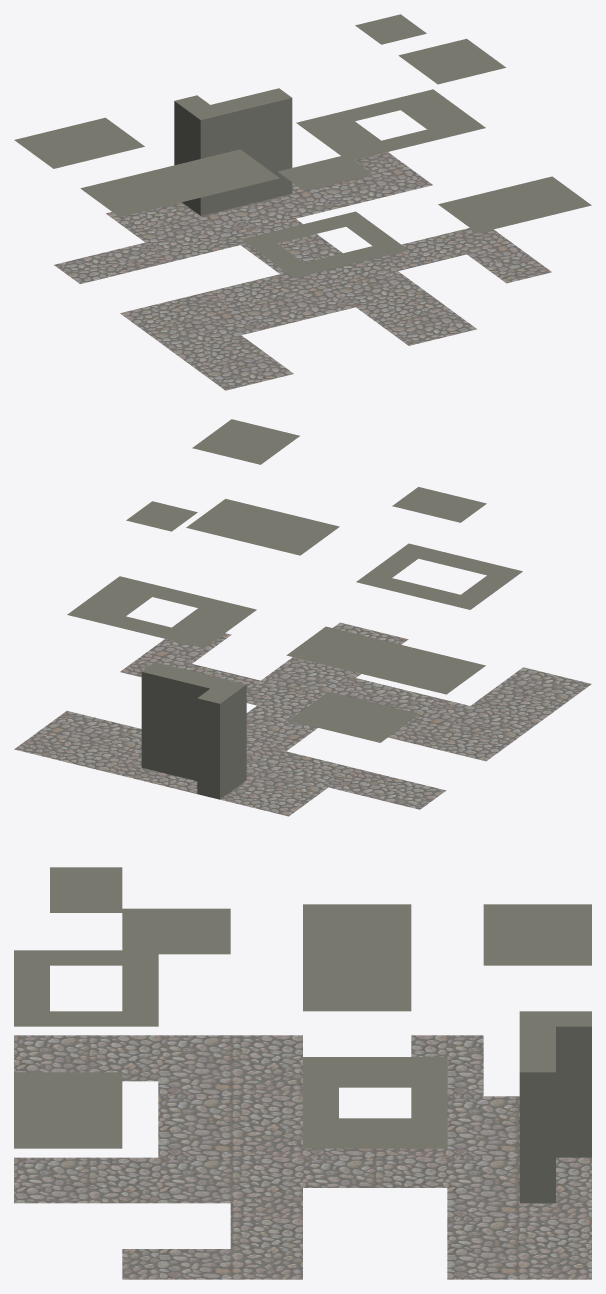
File: Tile4.fbx
3 views of the same model, one above another, from view 1: azimuth 30°, elevation 25°; view 2: azimuth 150°, elevation 25°; view 3: azimuth 270°, elevation 25° (orthographic). The views are drawn at different scales.
Visible parts, largest first — view 1: Tile2; view 2: Tile2; view 3: Tile2.
Boxes of the visible parts, box(x1,y1,x2,y2) form: Tile2: box(14, 14, 591, 390); Tile2: box(14, 419, 591, 816); Tile2: box(14, 867, 591, 1279).
Size of the model in its own units: 1600 by 900 by 1600.
